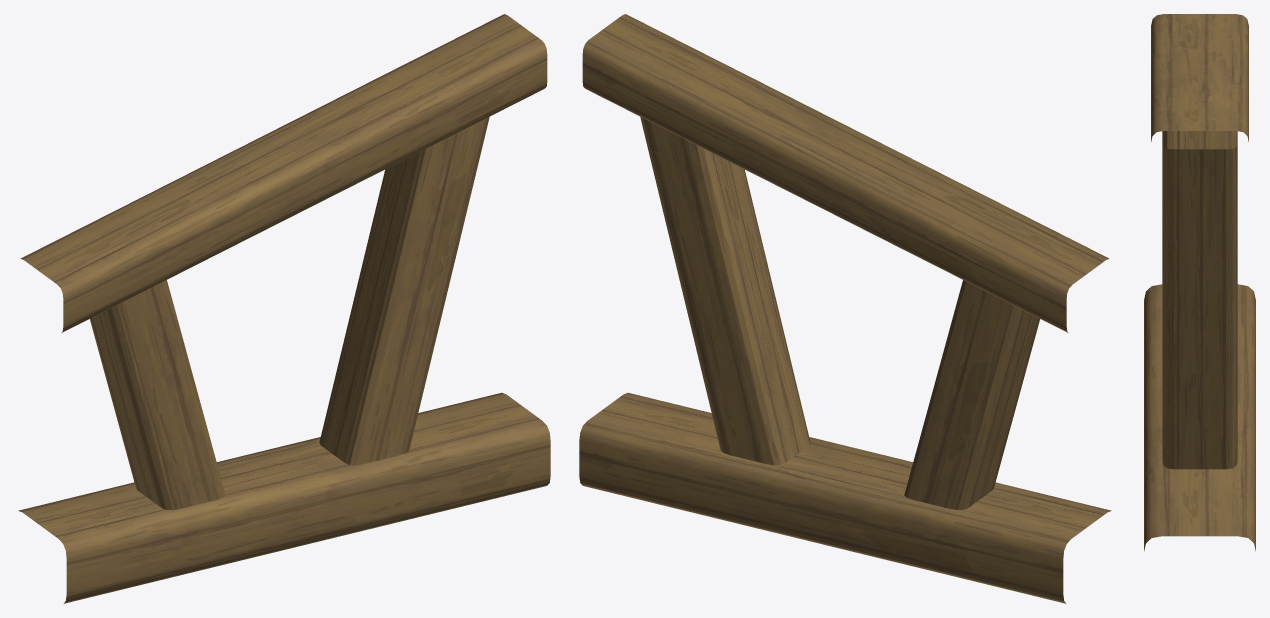
The model's file is SM_roof_frame_03.glb.
3 renders of one model, left to right at view 1: azimuth 30°, elevation 25°; view 2: azimuth 150°, elevation 25°; view 3: azimuth 270°, elevation 25°, orthographic. The views are drawn at different scales.
Visible parts, largest first — view 1: SM_roof_frame_03; view 2: SM_roof_frame_03; view 3: SM_roof_frame_03.
Part boxes in pixels (left/top/right/bottom): SM_roof_frame_03: left=18, top=14, right=550, bottom=603; SM_roof_frame_03: left=579, top=14, right=1111, bottom=603; SM_roof_frame_03: left=1144, top=14, right=1255, bottom=551.
Bounding box in the file's own units: 3.2 × 2.8 × 0.6.
Materials: 1 (1 with a texture image).
